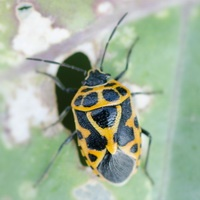insect: (27, 13, 152, 184)
